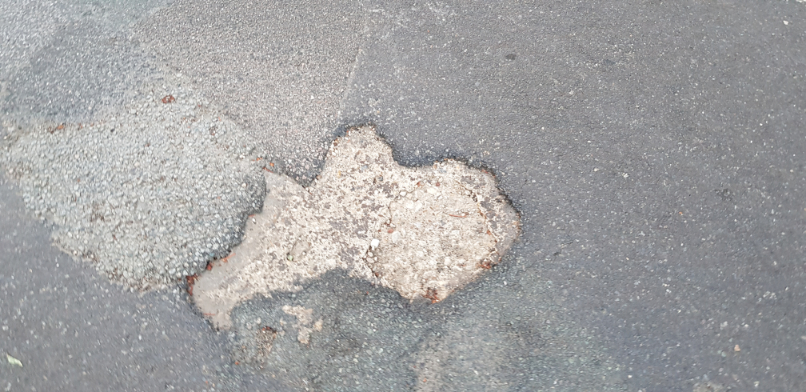pothole: (179, 118, 528, 336)
